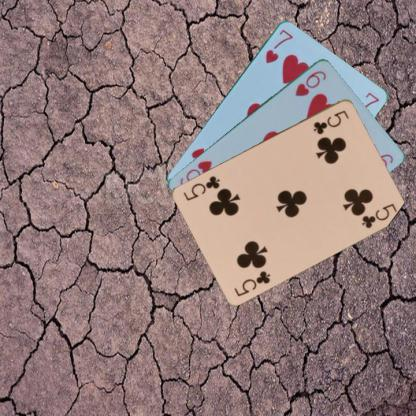5c: (232, 268, 272, 298), (311, 107, 350, 136)
6h: (292, 67, 328, 98)
7h: (262, 26, 294, 65)
